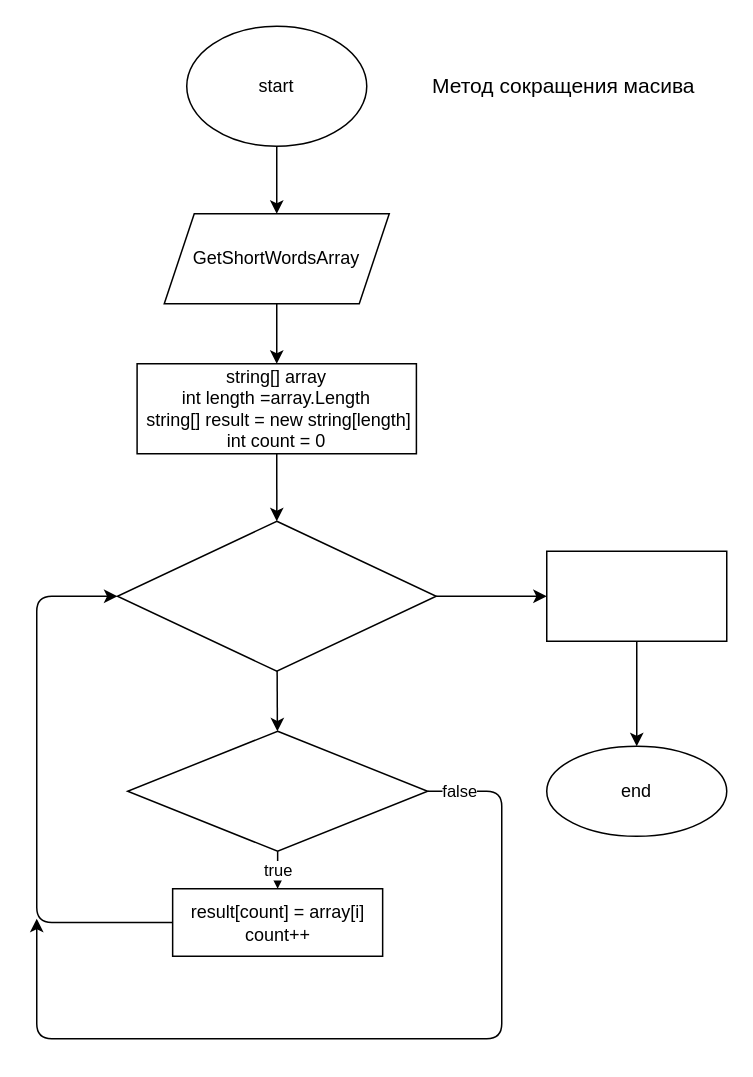
Some shapes in this 753 by 1077 pixel diagram are drawn without their labels. Here are the shapes that lost their labels. From the top down, the box of each, then its label:
(116, 520, 436, 671): for(i = 0; i < array.Length; i++)
(545, 550, 727, 641): array
(126, 730, 428, 851): if(array1[i]<=MaxWordLength)
